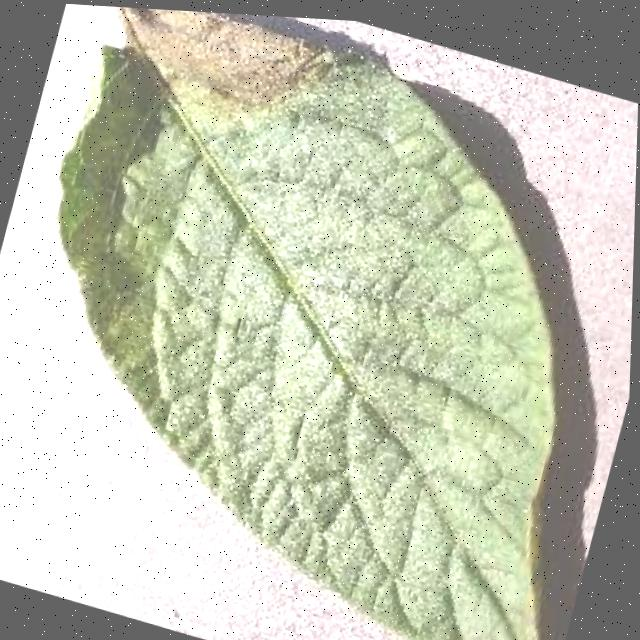Late_blight: (79, 5, 401, 176)
